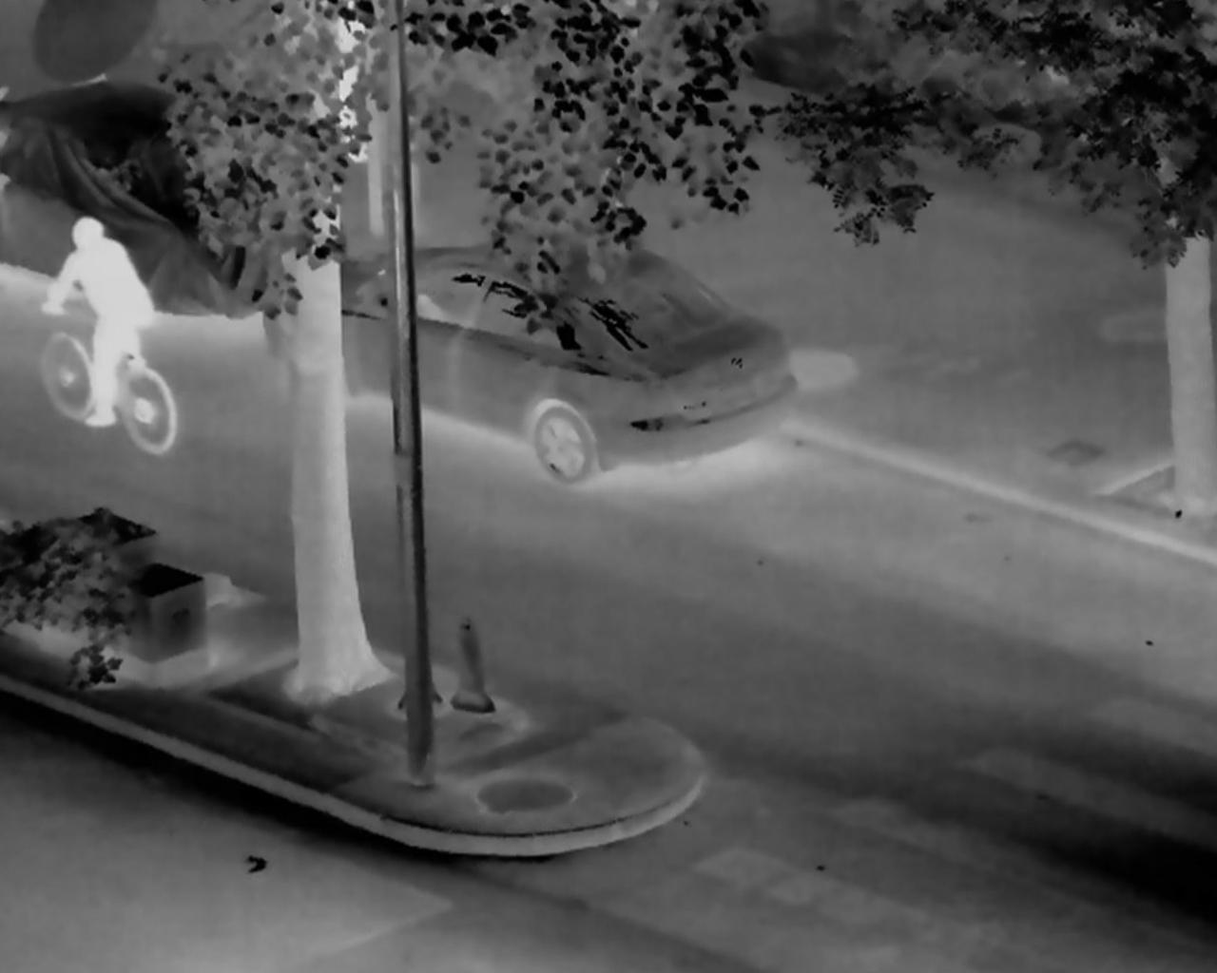person: (42, 218, 153, 428)
